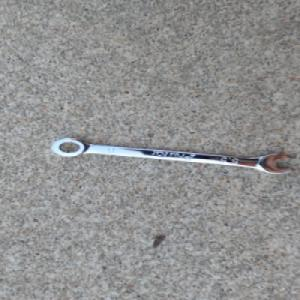Wrench: (49, 136, 294, 174)
